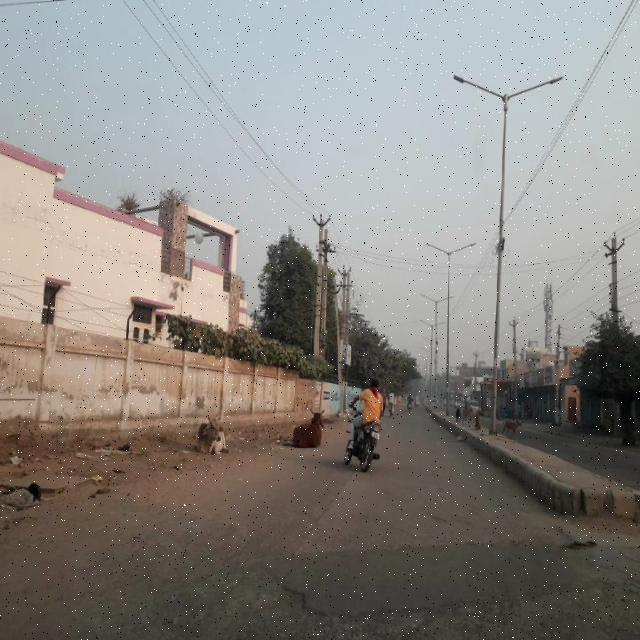D01: (300, 470, 361, 537)
D40: (268, 574, 556, 636)
